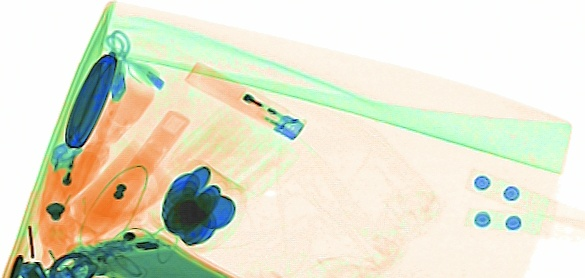lighter: (183, 59, 306, 141), (39, 141, 83, 224)
